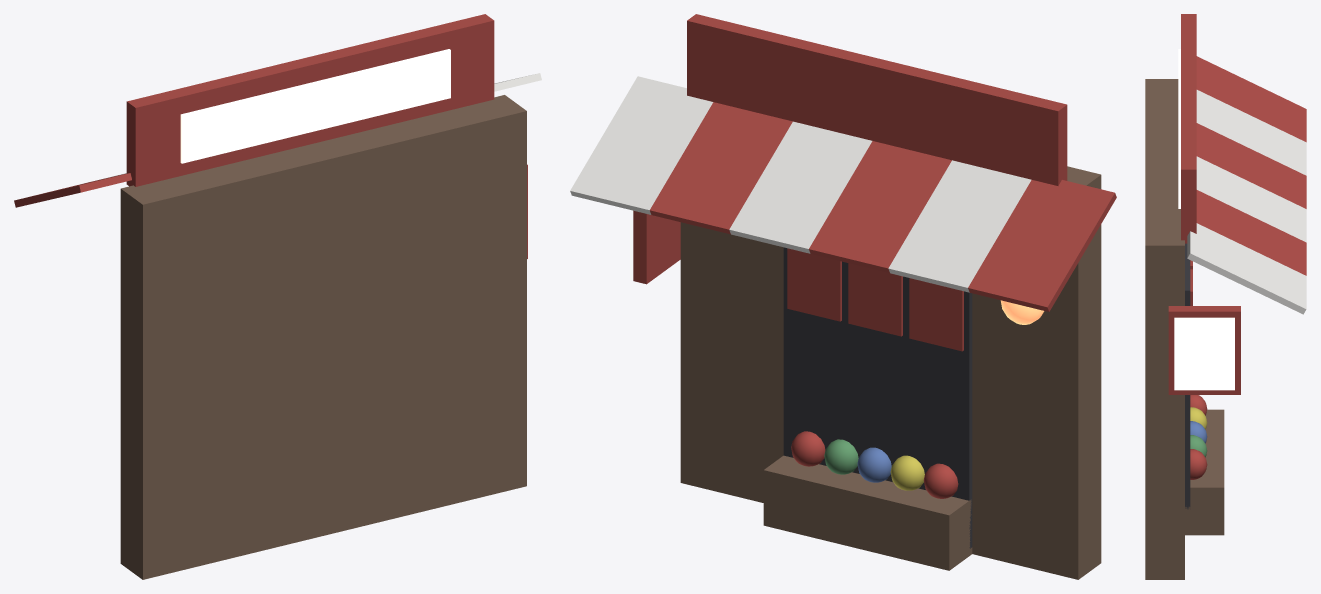
File: prop_mise_dagashi.glb
The picture shows the model from 3 angles, left to right: view 1: azimuth 30°, elevation 25°; view 2: azimuth 150°, elevation 25°; view 3: azimuth 270°, elevation 25°; orthographic projection. The views are drawn at different scales.
Parts seen in each view (by area): view 1: mise_dagashi; view 2: mise_dagashi; view 3: mise_dagashi.
Boxes of the visible parts, left/top/right/bottom form: mise_dagashi: left=14, top=14, right=541, bottom=579; mise_dagashi: left=570, top=14, right=1116, bottom=579; mise_dagashi: left=1145, top=14, right=1306, bottom=579.
Size of the model in its own units: 3.6 by 3.39 by 1.22.
